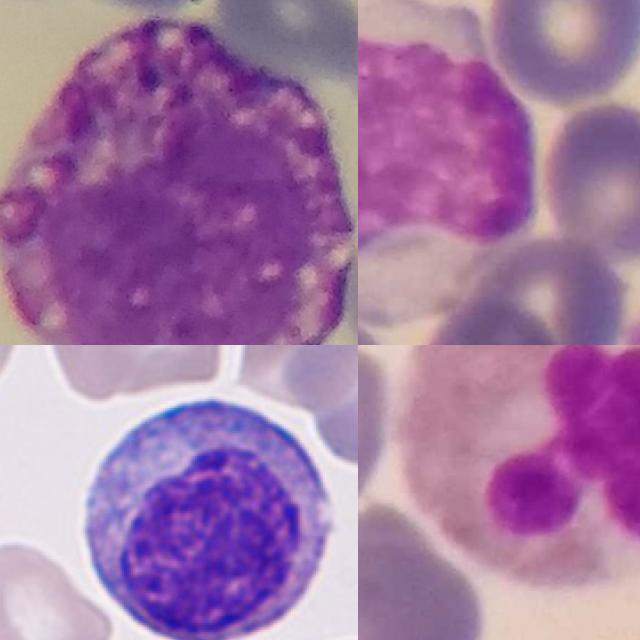Basophil: (0, 15, 358, 345)
Eosinophil: (401, 345, 640, 589)
Lymphocyte: (67, 388, 349, 640)
Monocyte: (358, 0, 535, 326)
RBC: (0, 532, 116, 640), (38, 345, 180, 406), (234, 345, 358, 413), (88, 345, 230, 399), (298, 345, 358, 468)
